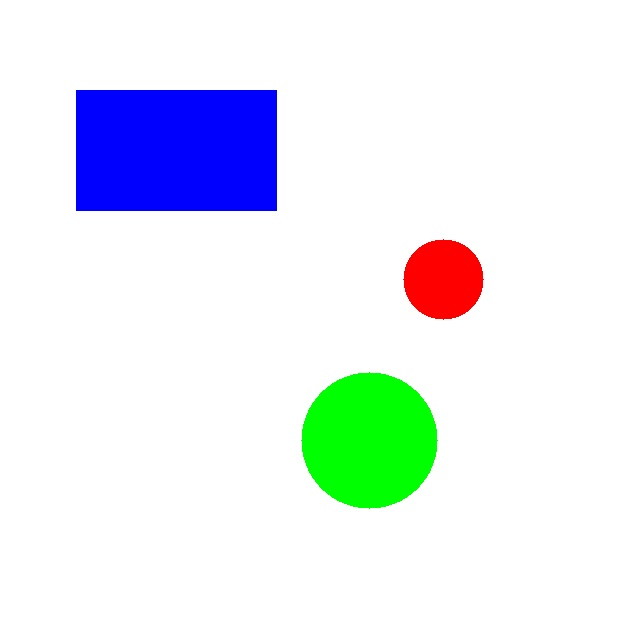cartao: (76, 90, 276, 210)
rosca_externa: (301, 372, 437, 508)
rosca_interna: (403, 239, 483, 319)
